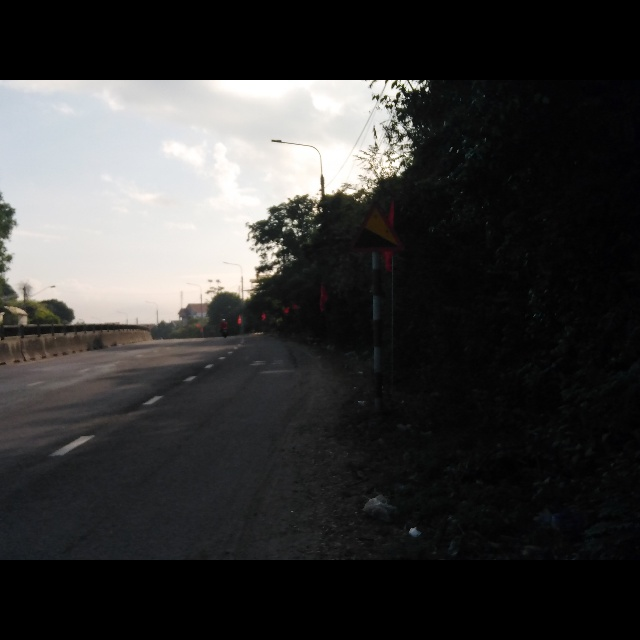Dốc lên nguy hiểm: (348, 202, 406, 258)
